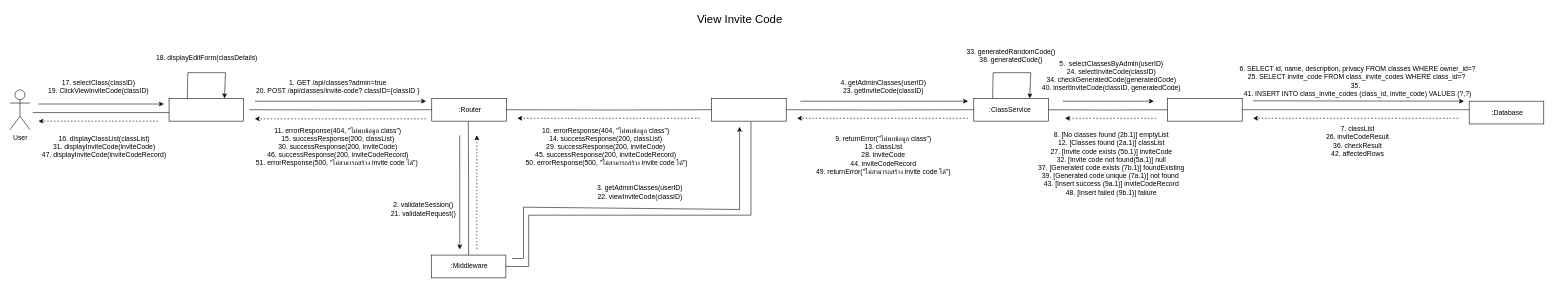
The diagram is 1554 pixels wide and 288 high, and some of its shapes have lost their labels. Each missing label, with the box of its shape:
:ClassController: (711, 98, 786, 121)
:ClassRepository: (1167, 98, 1242, 121)
:Frontend: (168, 98, 244, 121)
